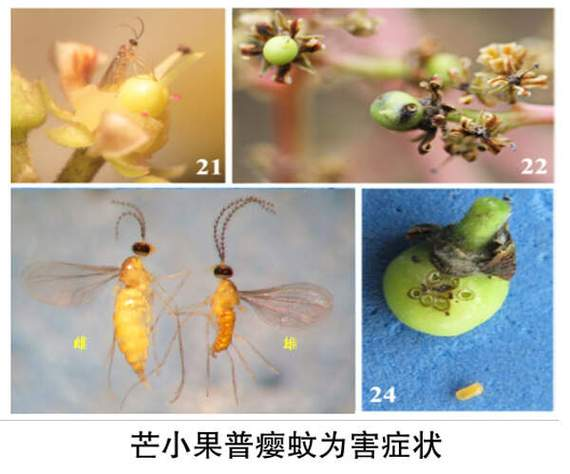Cecidomyiidae: (21, 197, 203, 404), (170, 192, 332, 392), (94, 8, 163, 98)
